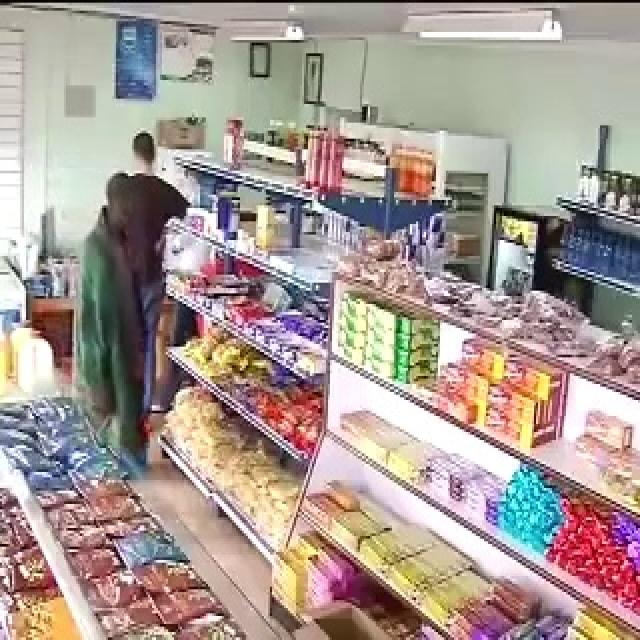normal: (38, 160, 152, 455), (118, 118, 182, 226)
